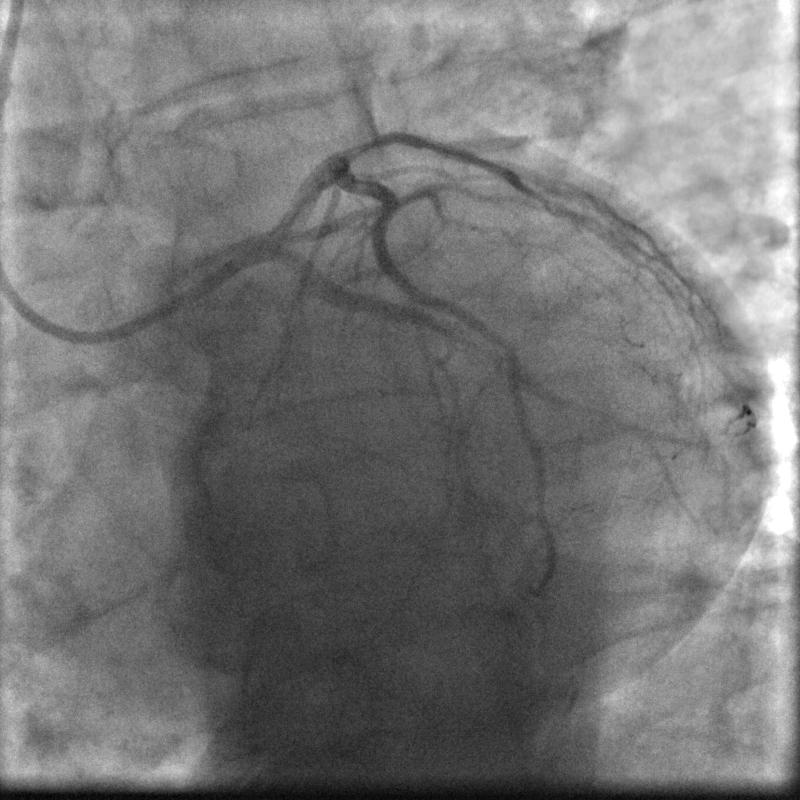Stenosis: (339, 130, 394, 165)
